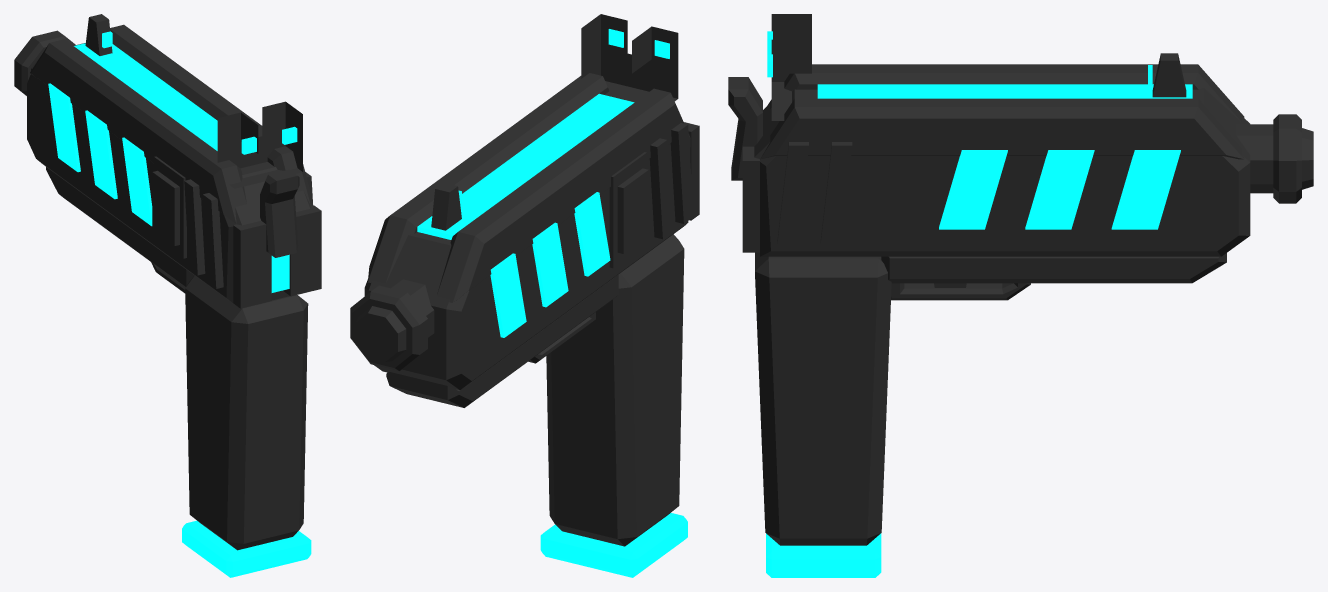
Rendered from pistol.glb.
3 renders of one model, left to right at view 1: azimuth 30°, elevation 25°; view 2: azimuth 150°, elevation 25°; view 3: azimuth 270°, elevation 25°, orthographic. The views are drawn at different scales.
Parts seen in each view (by area): view 1: trim, grip, frame, heat_vents, heat_cell; view 2: grip, frame, trim, heat_vents, heat_cell; view 3: frame, trim, grip, heat_vents, heat_cell.
Part boxes in pixels (left/top/right/bottom): trim: left=14, top=14, right=321, bottom=308; grip: left=185, top=275, right=308, bottom=550; frame: left=27, top=43, right=313, bottom=308; heat_vents: left=48, top=31, right=297, bottom=292; heat_cell: left=182, top=520, right=311, bottom=577; grip: left=546, top=234, right=684, bottom=546; frame: left=355, top=14, right=690, bottom=407; trim: left=350, top=73, right=699, bottom=371; heat_vents: left=417, top=29, right=669, bottom=337; heat_cell: left=540, top=513, right=687, bottom=577; frame: left=754, top=14, right=1313, bottom=300; trim: left=728, top=53, right=1301, bottom=287; grip: left=755, top=252, right=891, bottom=545; heat_vents: left=767, top=31, right=1192, bottom=229; heat_cell: left=766, top=533, right=881, bottom=577.
Bounding box in the file's own units: 0.0475 × 0.2 × 0.203.
